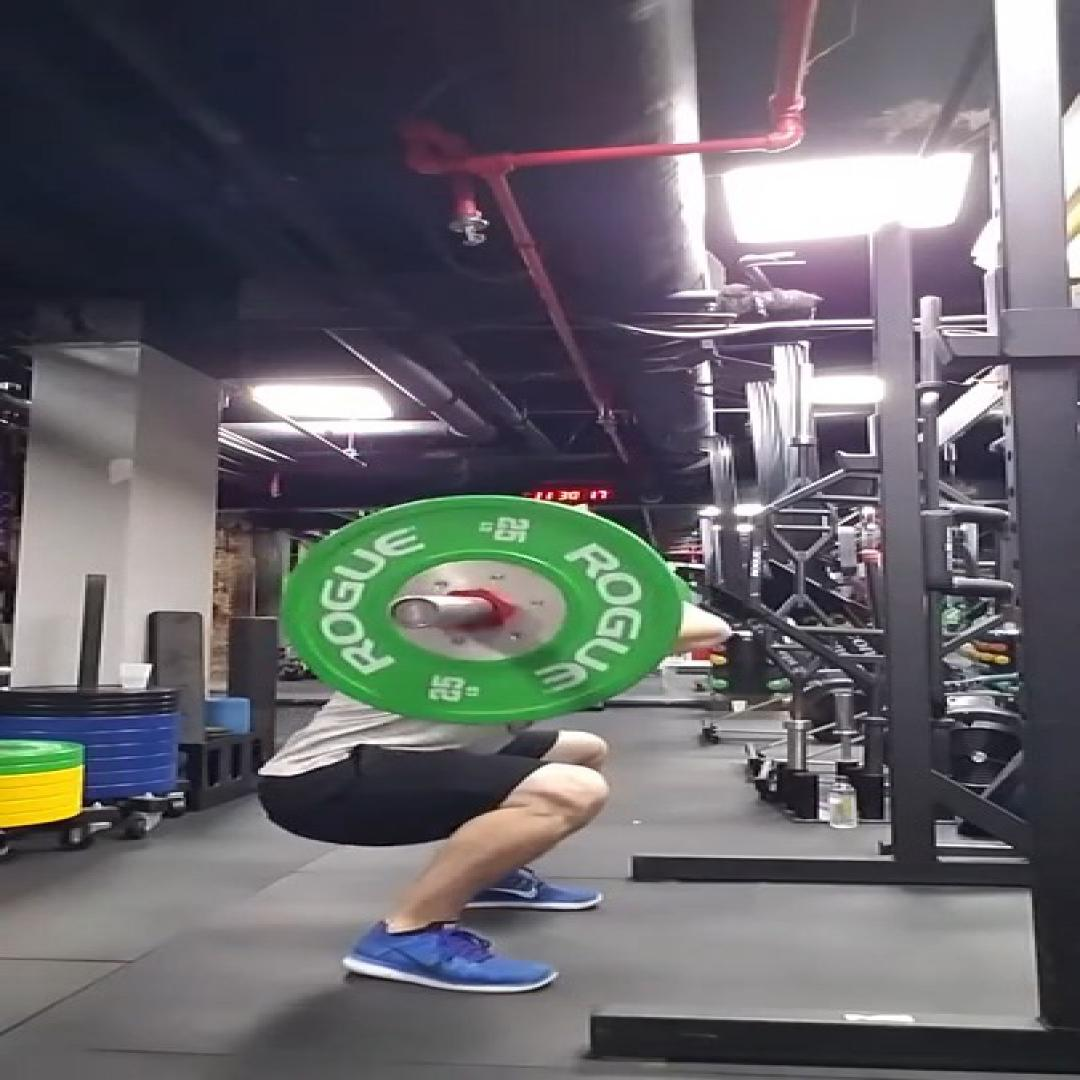Bar: (386, 596, 444, 630)
Barbell: (279, 495, 681, 726)
